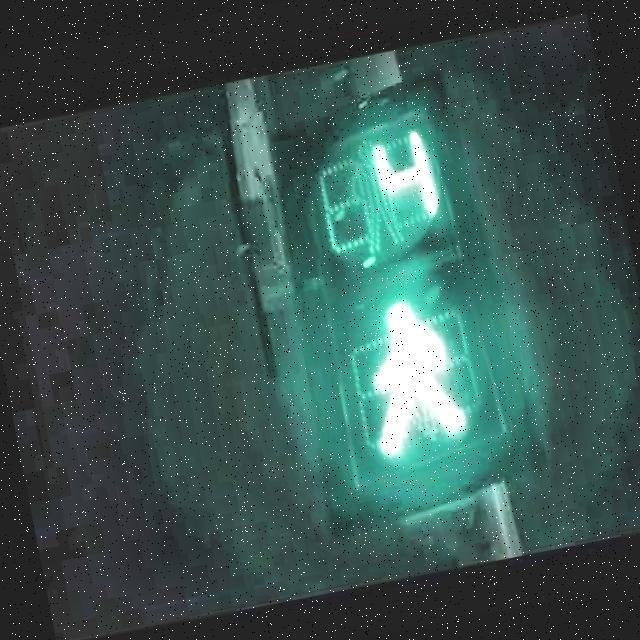green_light: (352, 288, 473, 458)
